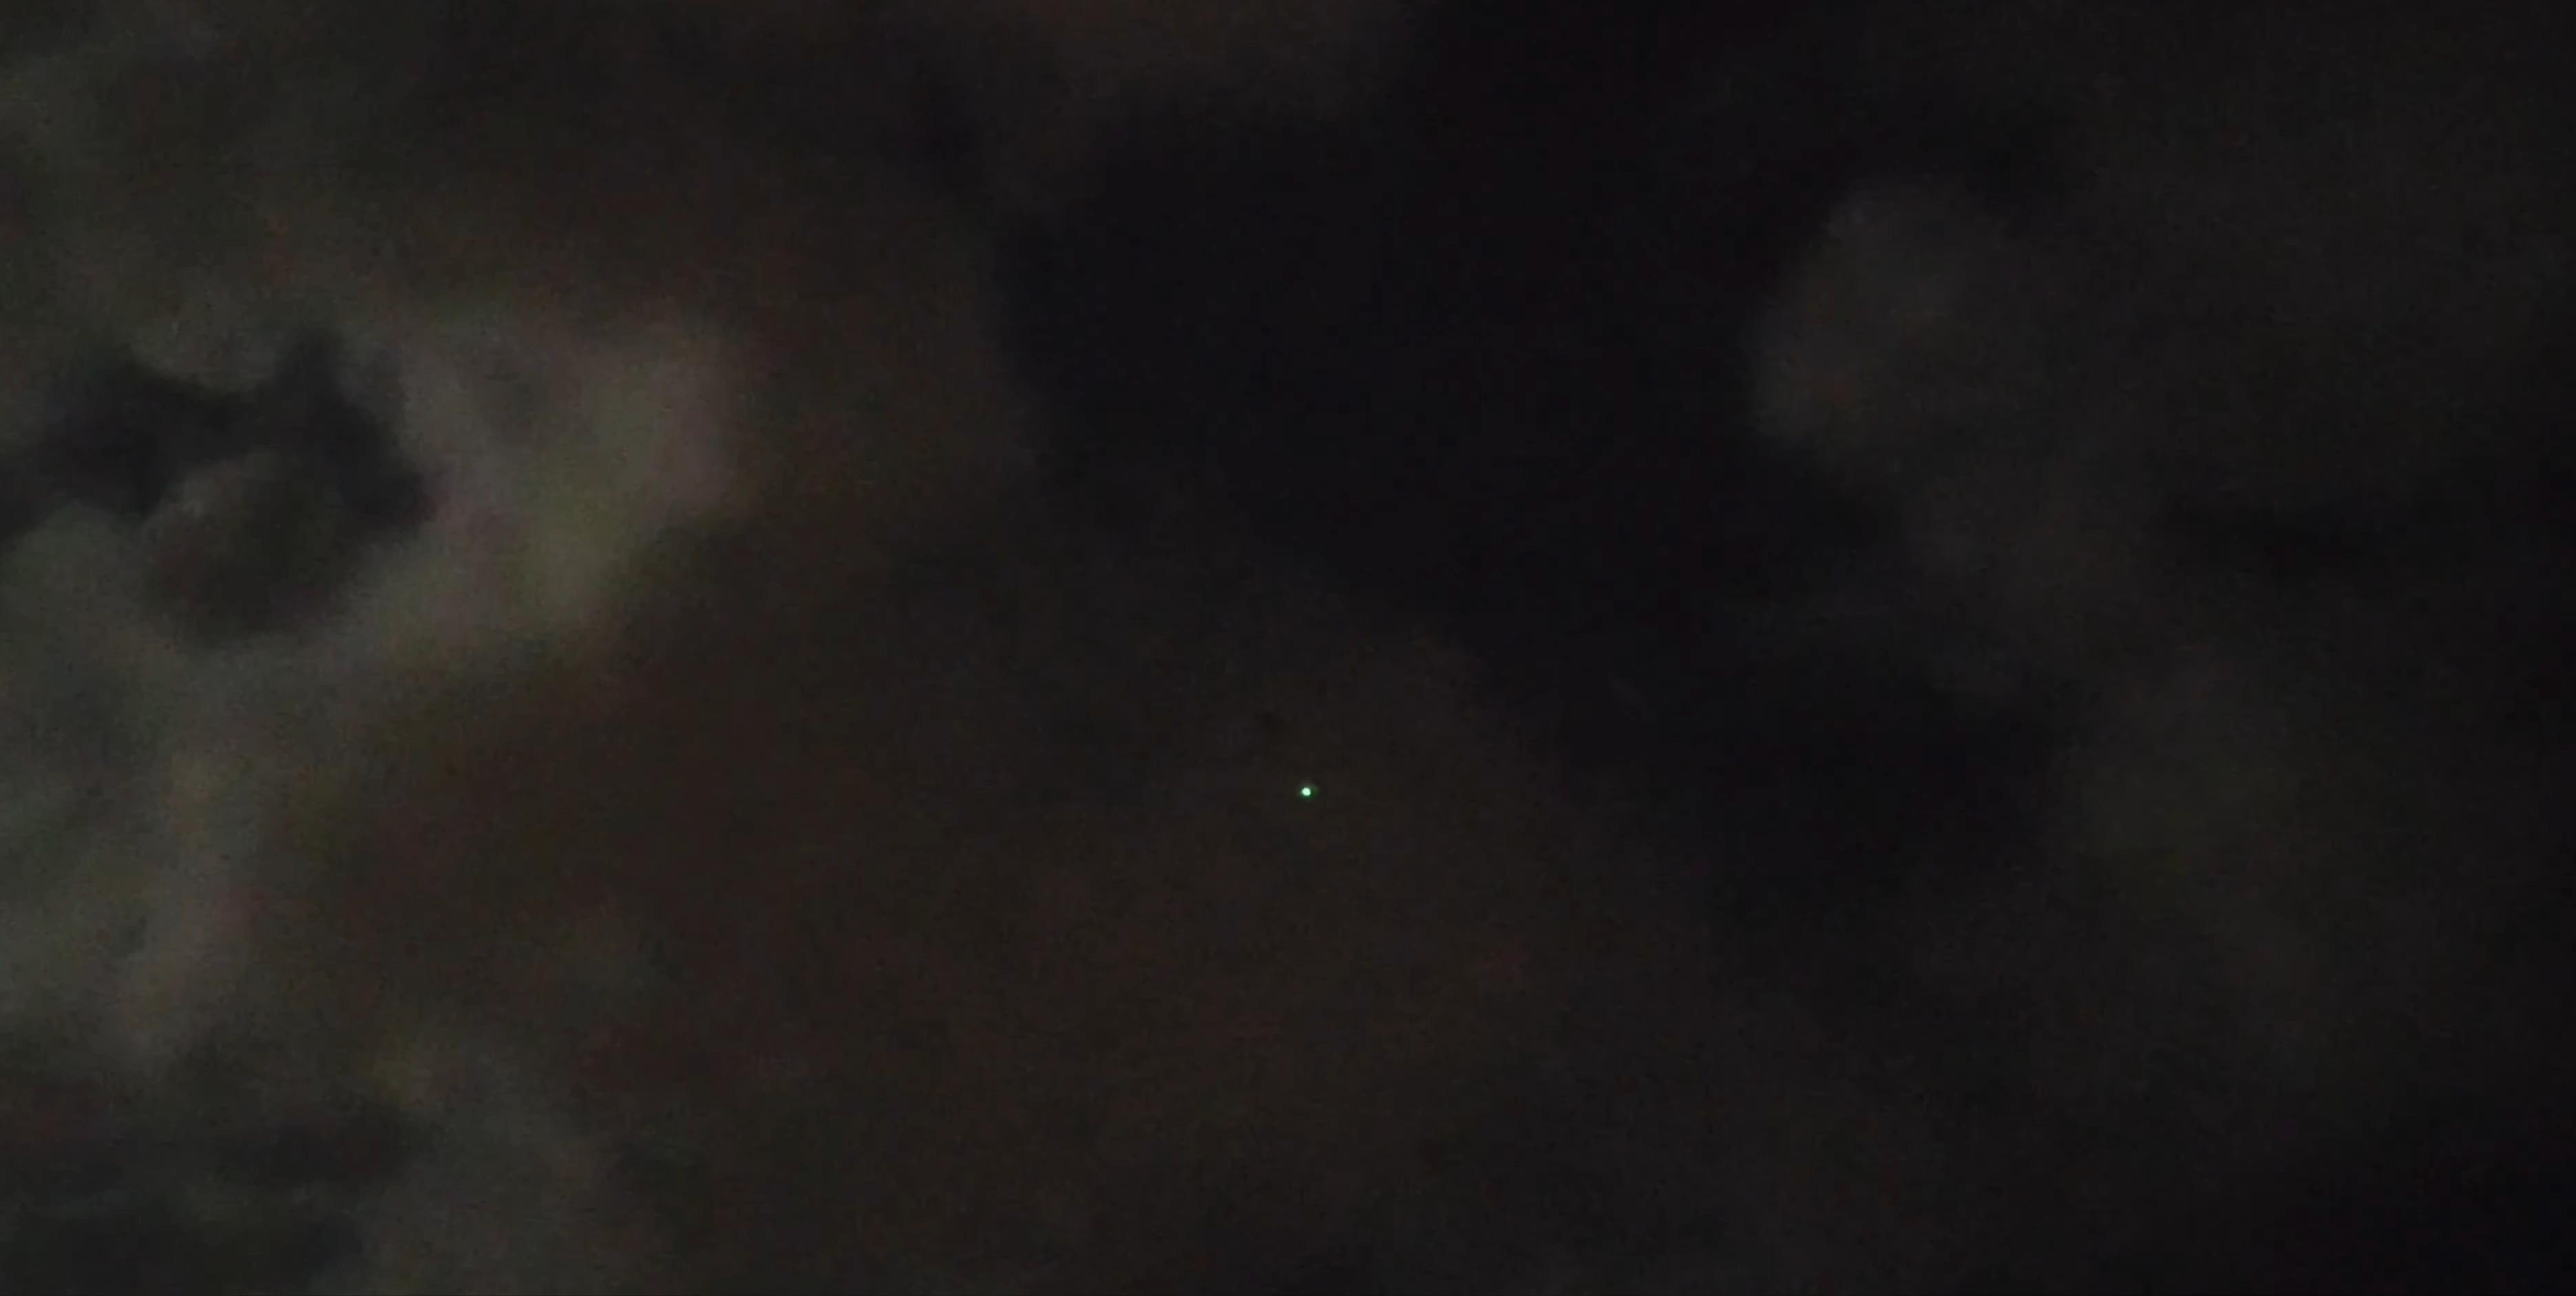Plane: (1276, 780, 1328, 813)
